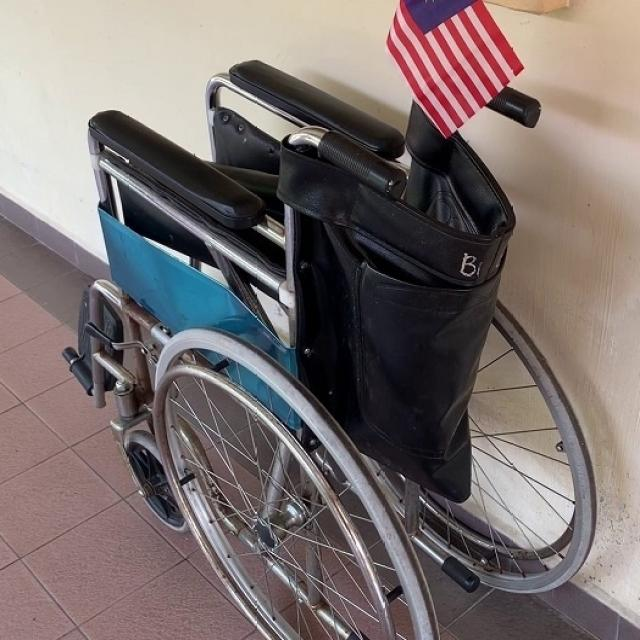wheelchair: (56, 0, 606, 640)
